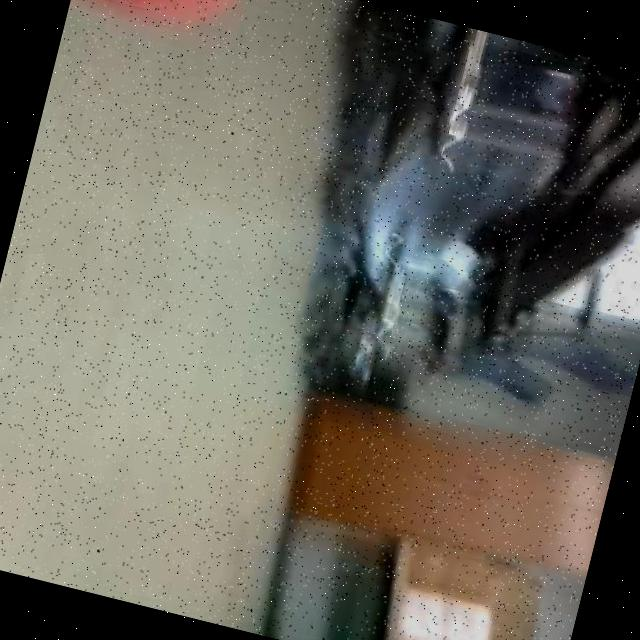ping-pong-ball: (68, 0, 251, 49)
